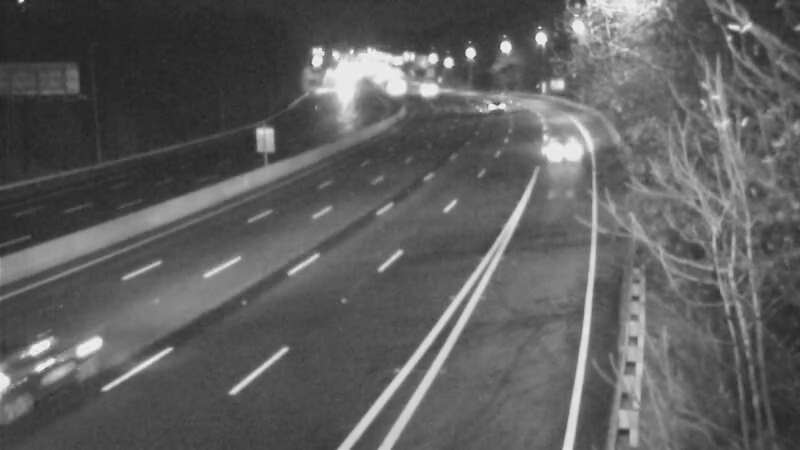vehicle: (1, 327, 99, 437), (401, 60, 451, 110), (462, 82, 512, 132), (537, 122, 587, 172)
